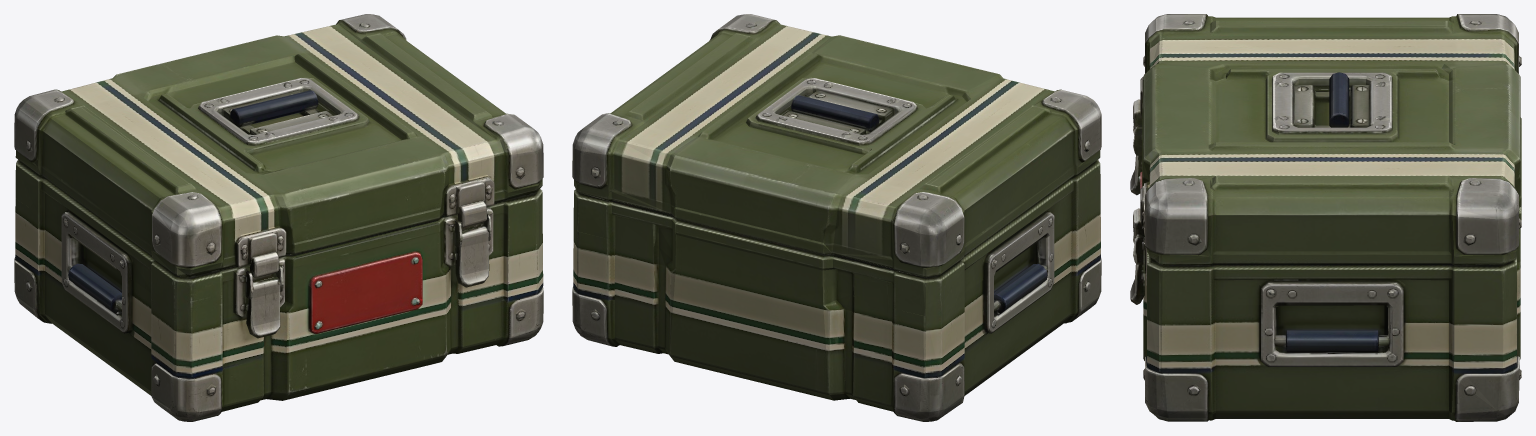
Rendered from chest.fbx.
3 renders of one model, left to right at view 1: azimuth 30°, elevation 25°; view 2: azimuth 150°, elevation 25°; view 3: azimuth 270°, elevation 25°, orthographic. The views are drawn at different scales.
Parts seen in each view (by area): view 1: Lid, chest; view 2: Lid, chest; view 3: Lid, chest.
Boxes of the visible parts, box(x1,y1,x2,y2) form: Lid: box(14, 14, 543, 316); chest: box(14, 198, 543, 421); Lid: box(572, 14, 1101, 316); chest: box(572, 198, 1101, 421); Lid: box(1133, 14, 1521, 307); chest: box(1130, 155, 1521, 421).
Bounding box in the file's own units: 1.32 × 0.7465 × 1.1.
Materials: 1 (1 with a texture image).
